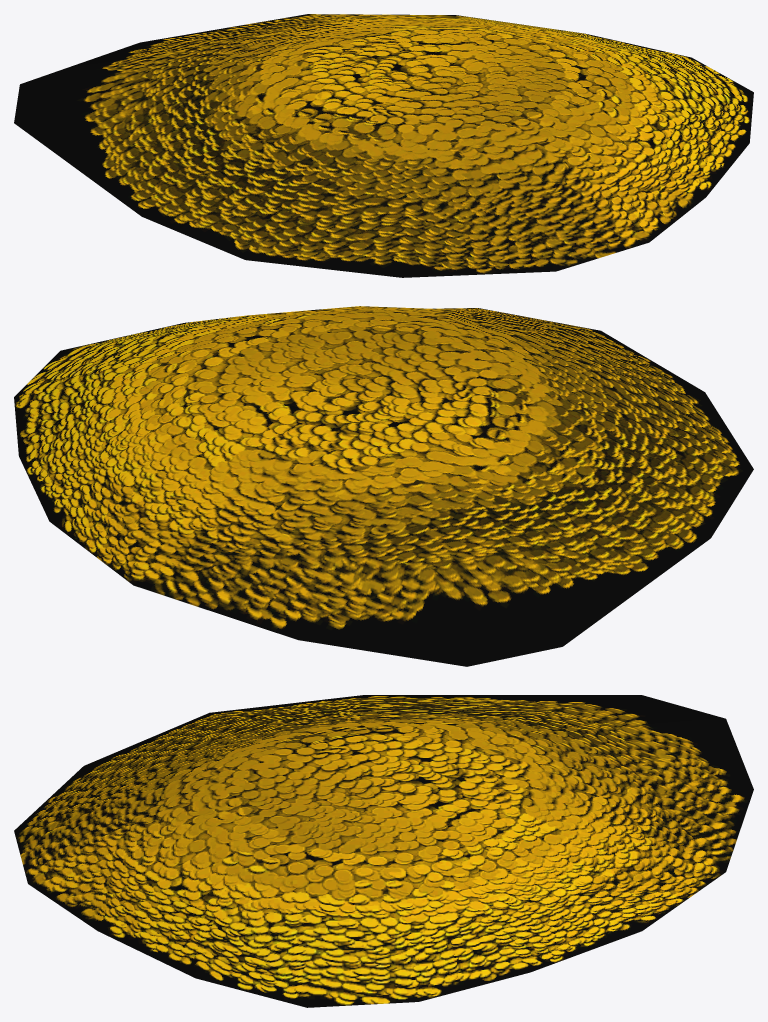
The model's file is INST_SM_GOLDPILE_SMALLC.fbx.
3 renders of one model, top to bottom at view 1: azimuth 30°, elevation 25°; view 2: azimuth 150°, elevation 25°; view 3: azimuth 270°, elevation 25°, orthographic. The views are drawn at different scales.
Parts seen in each view (by area): view 1: INST_SM_GOLDPILE_SMALLC; view 2: INST_SM_GOLDPILE_SMALLC; view 3: INST_SM_GOLDPILE_SMALLC.
Boxes of the visible parts, box(x1,y1,x2,y2) form: INST_SM_GOLDPILE_SMALLC: box(14, 14, 753, 277); INST_SM_GOLDPILE_SMALLC: box(14, 306, 753, 666); INST_SM_GOLDPILE_SMALLC: box(14, 695, 753, 1007).
Size of the model in its own units: 66250 by 6450 by 66250.
Materials: 1 (1 with a texture image).
